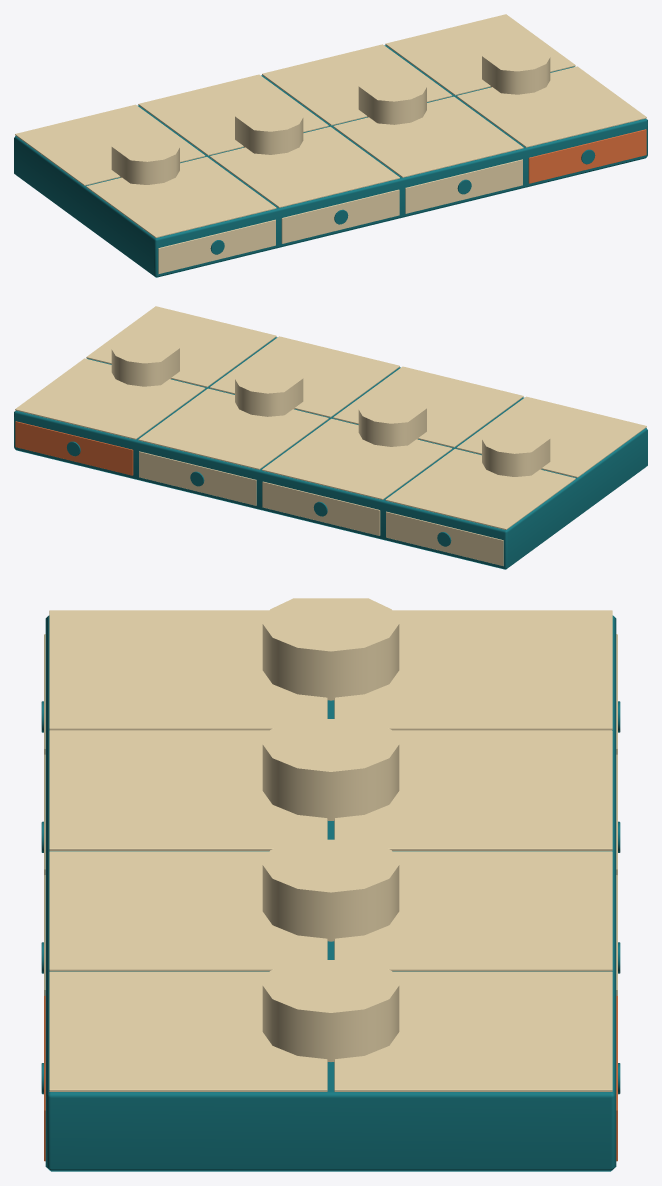
Rendered from plate-lod-1.glb.
The picture shows the model from 3 angles, top to bottom: view 1: azimuth 30°, elevation 25°; view 2: azimuth 150°, elevation 25°; view 3: azimuth 270°, elevation 25°; orthographic projection. The views are drawn at different scales.
Visible parts, largest first — view 1: plate_lod_1; view 2: plate_lod_1; view 3: plate_lod_1.
Part boxes in pixels (<box>): plate_lod_1: <box>14,14,647,277</box>; plate_lod_1: <box>14,306,647,569</box>; plate_lod_1: <box>41,598,620,1171</box>.
Size of the model in its own units: 4 by 0.5 by 2.03.
